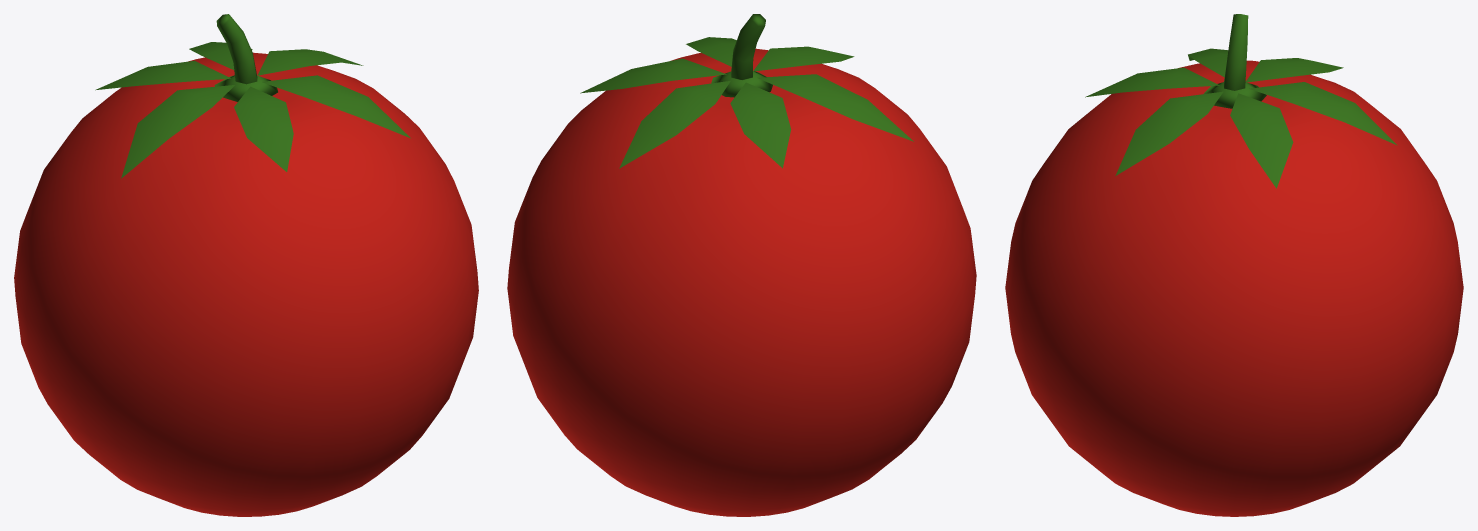
Rendered from TomatePerso.fbx.
3 renders of one model, left to right at view 1: azimuth 30°, elevation 25°; view 2: azimuth 150°, elevation 25°; view 3: azimuth 270°, elevation 25°, orthographic. The views are drawn at different scales.
Parts seen in each view (by area): view 1: Tomate_Cuerpo; view 2: Tomate_Cuerpo; view 3: Tomate_Cuerpo.
Boxes of the visible parts, x1,y1,x2,y2 form: Tomate_Cuerpo: (14, 14, 478, 516); Tomate_Cuerpo: (507, 14, 976, 516); Tomate_Cuerpo: (1005, 14, 1463, 516).
Bounding box in the file's own units: 9 × 10.18 × 9.
